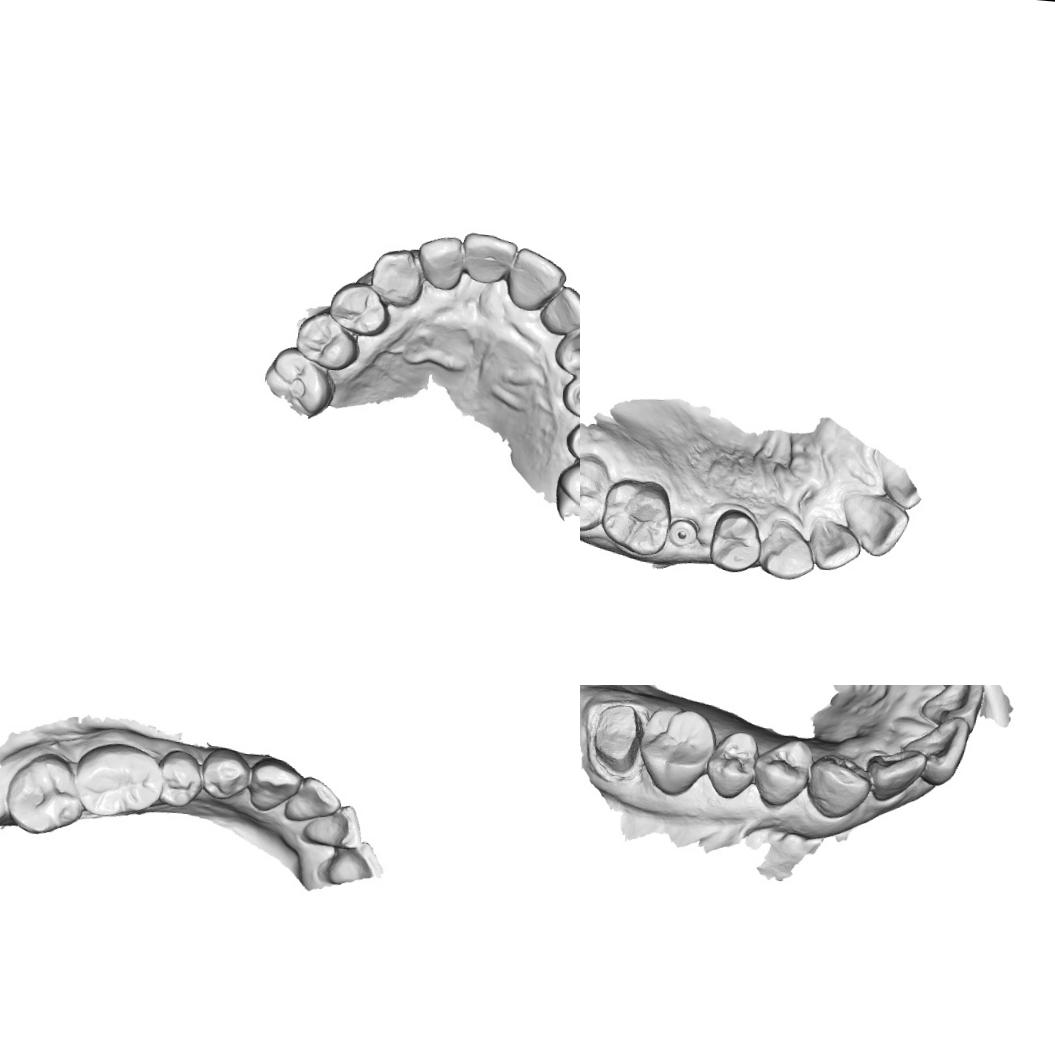canine: (800, 750, 876, 822), (755, 516, 818, 582), (366, 242, 424, 310), (246, 757, 304, 813), (548, 322, 580, 381)
crown: (586, 694, 645, 779)
implant: (665, 516, 700, 550)
incisor: (896, 711, 972, 789), (836, 490, 911, 560), (503, 244, 571, 315), (862, 743, 930, 806), (458, 229, 519, 290), (915, 685, 994, 730), (300, 798, 364, 852), (322, 836, 385, 890), (807, 516, 863, 574), (413, 232, 466, 293), (282, 772, 340, 827), (868, 463, 924, 510), (534, 281, 580, 338)
molar: (630, 701, 720, 803), (72, 738, 164, 822), (2, 748, 88, 837), (598, 476, 674, 558), (259, 343, 339, 418), (580, 449, 612, 533), (550, 459, 580, 522)
premolar: (748, 730, 816, 812), (291, 303, 364, 374), (702, 727, 760, 802), (324, 278, 391, 339), (706, 504, 764, 574), (199, 746, 253, 802), (156, 747, 204, 808), (559, 366, 580, 424), (563, 415, 580, 467)
